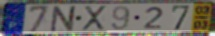2: (143, 6, 165, 30)
7: (28, 4, 51, 34), (171, 5, 191, 31)
9: (110, 5, 131, 31)
N: (48, 4, 80, 33)
X: (81, 5, 107, 32)
